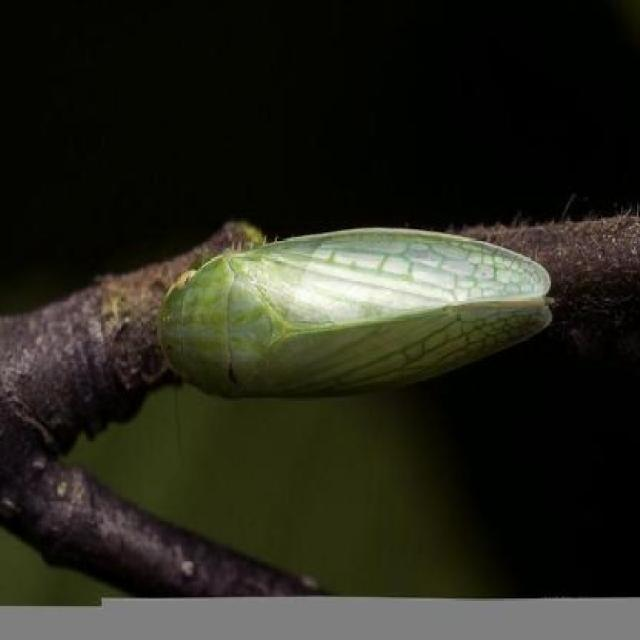green-leafhopper: (153, 236, 553, 384)
